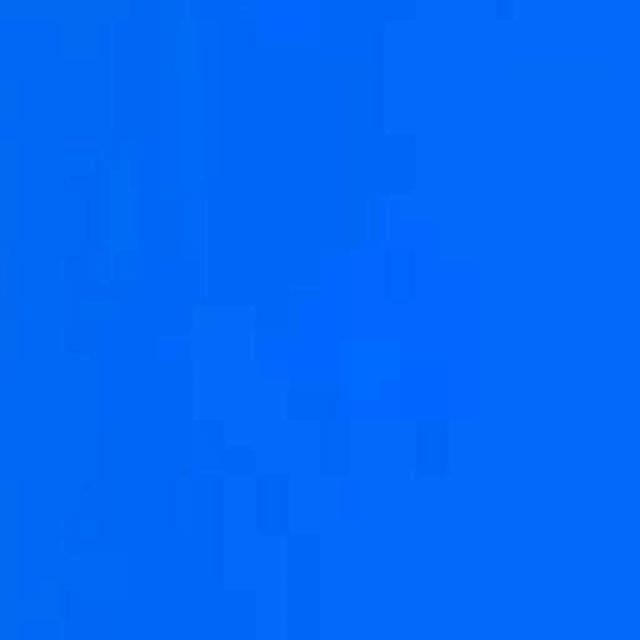airplane: (0, 244, 18, 476)
